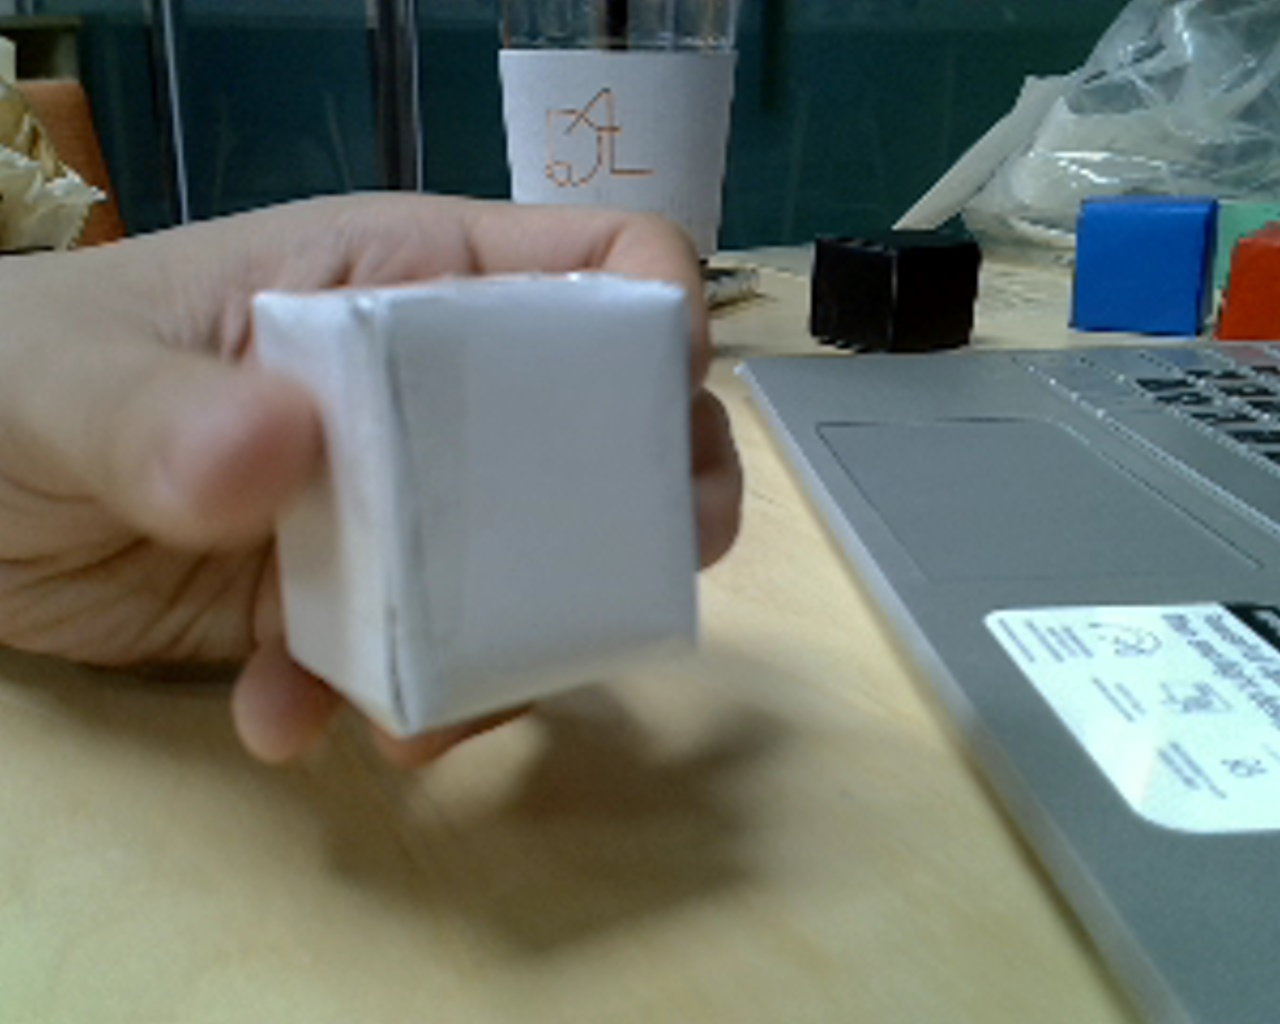whitebox: (223, 231, 763, 744)
